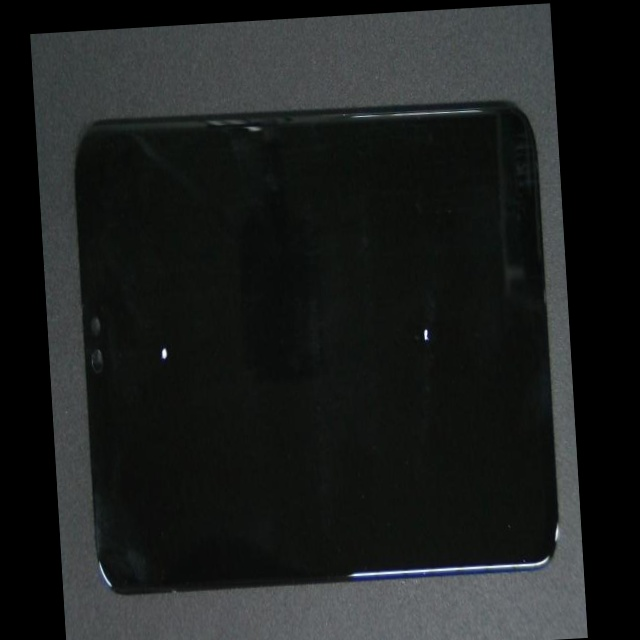stain: (241, 131, 577, 467), (99, 164, 225, 498)
